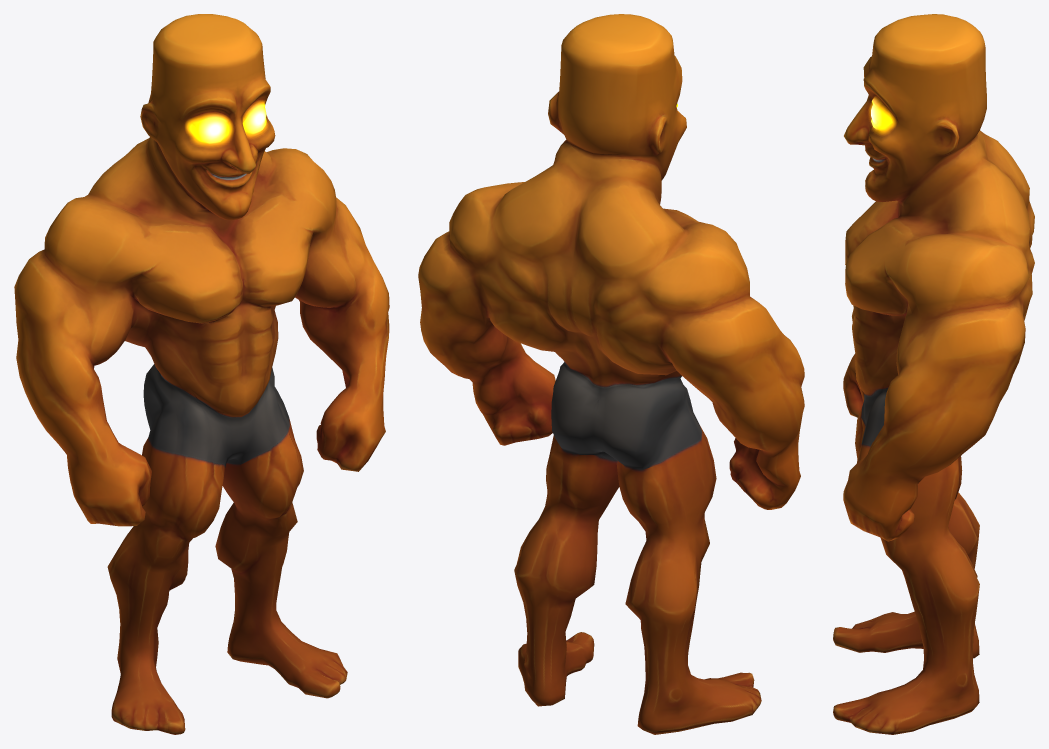
Rendered from player.glb.
3 views of the same model, side by side, from view 1: azimuth 30°, elevation 25°; view 2: azimuth 150°, elevation 25°; view 3: azimuth 270°, elevation 25° (orthographic). The views are drawn at different scales.
Parts seen in each view (by area): view 1: Retopo_tripo_node_c013d3b3-ca4f-46f2-a694-931ed784ed0e.004_S; view 2: Retopo_tripo_node_c013d3b3-ca4f-46f2-a694-931ed784ed0e.004_S; view 3: Retopo_tripo_node_c013d3b3-ca4f-46f2-a694-931ed784ed0e.004_S.
Part boxes in pixels (<box>): Retopo_tripo_node_c013d3b3-ca4f-46f2-a694-931ed784ed0e.004_S: <box>14,14,389,734</box>; Retopo_tripo_node_c013d3b3-ca4f-46f2-a694-931ed784ed0e.004_S: <box>418,14,804,734</box>; Retopo_tripo_node_c013d3b3-ca4f-46f2-a694-931ed784ed0e.004_S: <box>833,14,1034,734</box>.
Size of the model in its own units: 0.5598 by 0.9961 by 0.2776.
Materials: 1 (1 with a texture image).
